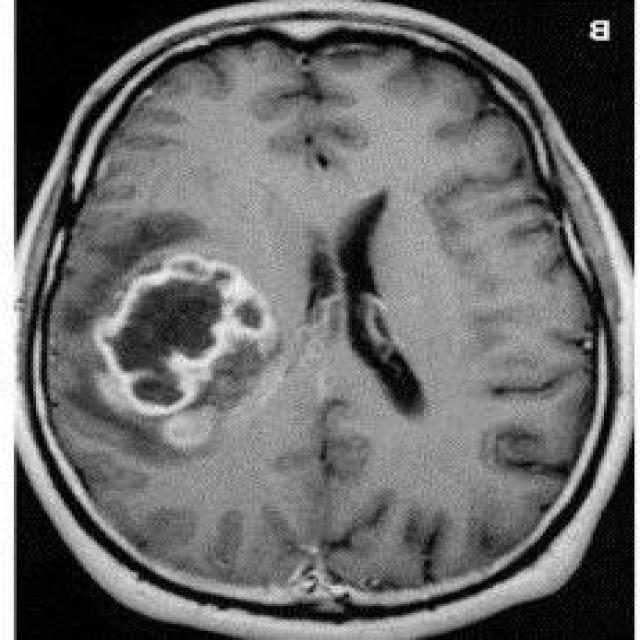Tumor-Cell: (61, 247, 280, 420)
